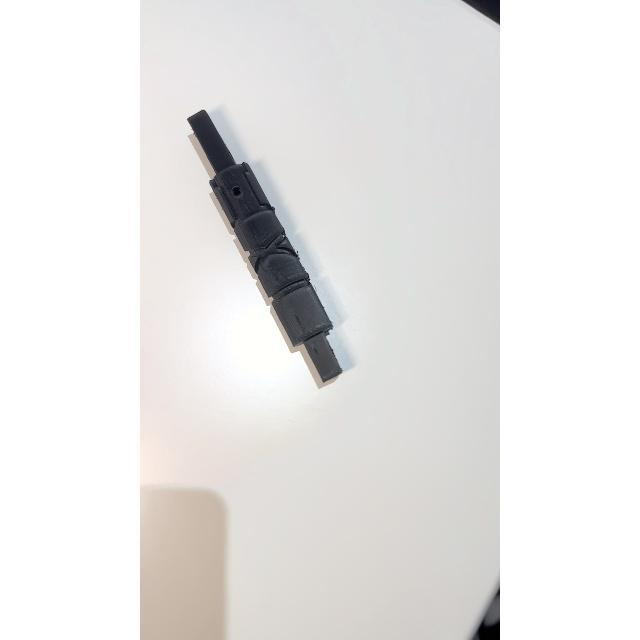Pieza1: (176, 94, 362, 398)
